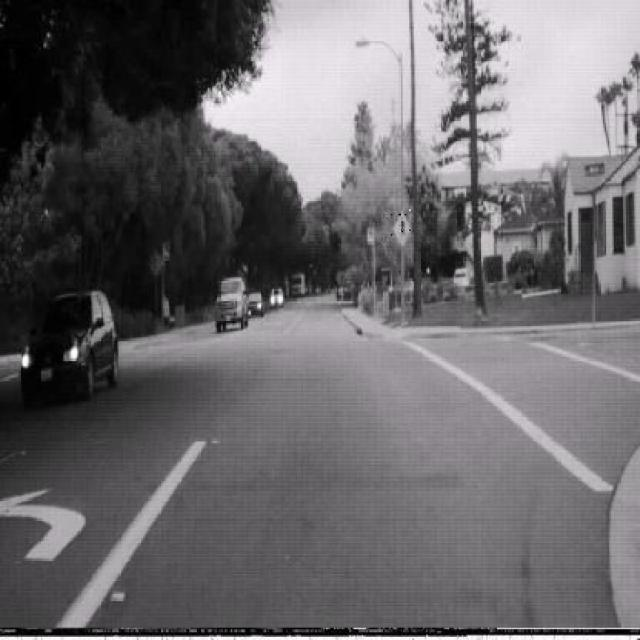pedestrianCrossing: (391, 209, 412, 246)
